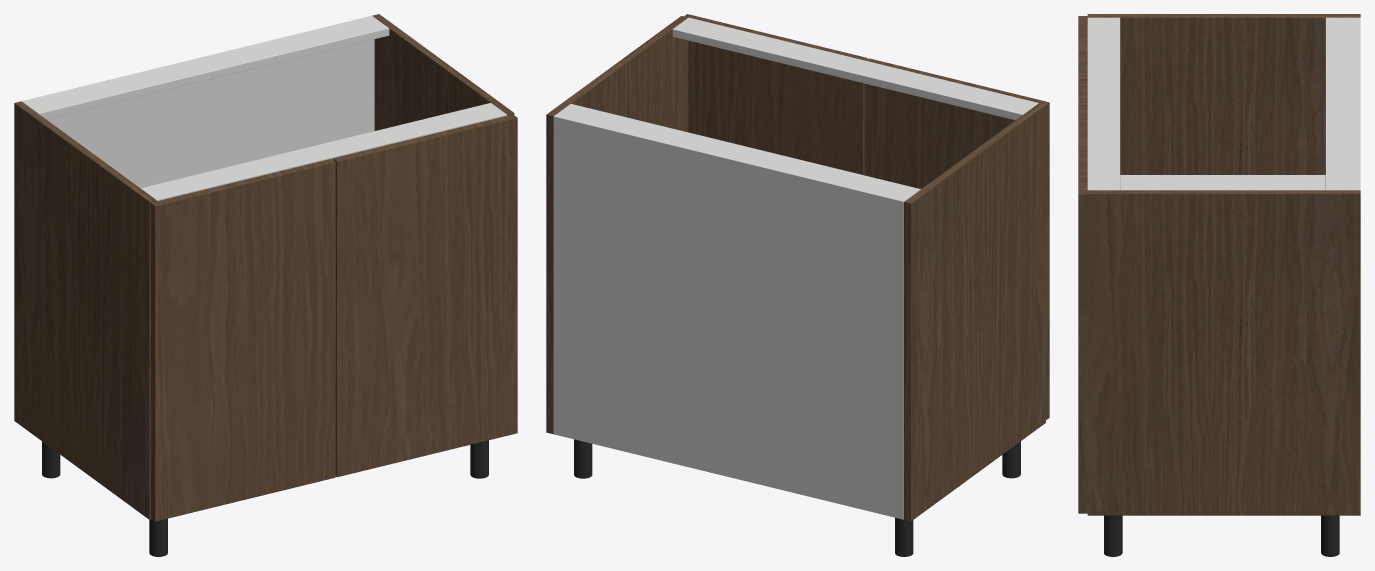
File: oppein-pb-mso-b36fh.glb
The picture shows the model from 3 angles, left to right: view 1: azimuth 30°, elevation 25°; view 2: azimuth 150°, elevation 25°; view 3: azimuth 270°, elevation 25°; orthographic projection.
Parts seen in each view (by area): view 1: Door, Door.001, Cabinet side, Cabinet back, Top support rail, Cabinet side.001, Top support rail.001, Adjustable foot.001, Adjustable foot.003; view 2: Cabinet back, Cabinet side, Door.001, Door, Cabinet side.001, Top support rail.001, Top support rail, Adjustable foot, Adjustable foot.002; view 3: Cabinet side.001, Cabinet side, Top support rail.001, Top support rail, Door.001, Adjustable shelf, Cabinet back, Door, Adjustable foot.003, Adjustable foot.002.
Part boxes in pixels (x1,y1,x2,y2): Door: (150, 159, 335, 521); Door.001: (332, 114, 517, 477); Cabinet side: (14, 101, 156, 519); Cabinet back: (21, 15, 374, 188); Top support rail: (23, 17, 389, 119); Cabinet side.001: (372, 14, 514, 130); Top support rail.001: (141, 103, 506, 201); Adjustable foot.001: (149, 518, 167, 556); Adjustable foot.003: (470, 440, 488, 478); Cabinet back: (553, 114, 905, 519); Cabinet side: (904, 103, 1045, 521); Door.001: (684, 14, 867, 175); Door: (864, 58, 1049, 419); Cabinet side.001: (546, 16, 688, 434); Top support rail.001: (672, 17, 1038, 120); Top support rail: (556, 104, 920, 199); Adjustable foot: (895, 517, 913, 556); Adjustable foot.002: (574, 439, 592, 478); Cabinet side.001: (1087, 190, 1360, 515); Cabinet side: (1087, 14, 1360, 174); Top support rail.001: (1087, 17, 1120, 190); Top support rail: (1325, 17, 1357, 190); Door.001: (1078, 105, 1087, 513); Adjustable shelf: (1120, 175, 1325, 190); Cabinet back: (1355, 17, 1360, 190); Door: (1078, 16, 1087, 105); Adjustable foot.003: (1104, 515, 1122, 556); Adjustable foot.002: (1321, 515, 1339, 556).
Bounding box in the file's own units: 0.9144 × 0.8763 × 0.6064.
3 materials, 1 textured.
